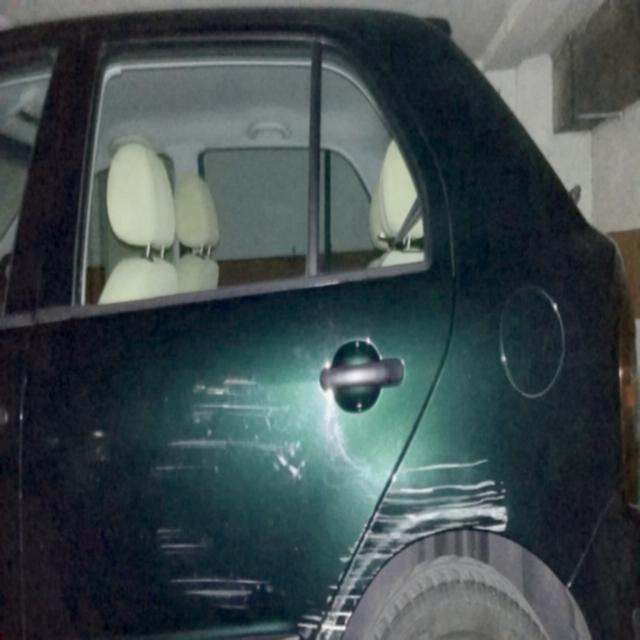minor: (144, 522, 209, 556), (218, 373, 260, 389)
moderate: (298, 454, 506, 630), (167, 402, 299, 474), (162, 575, 258, 595)
